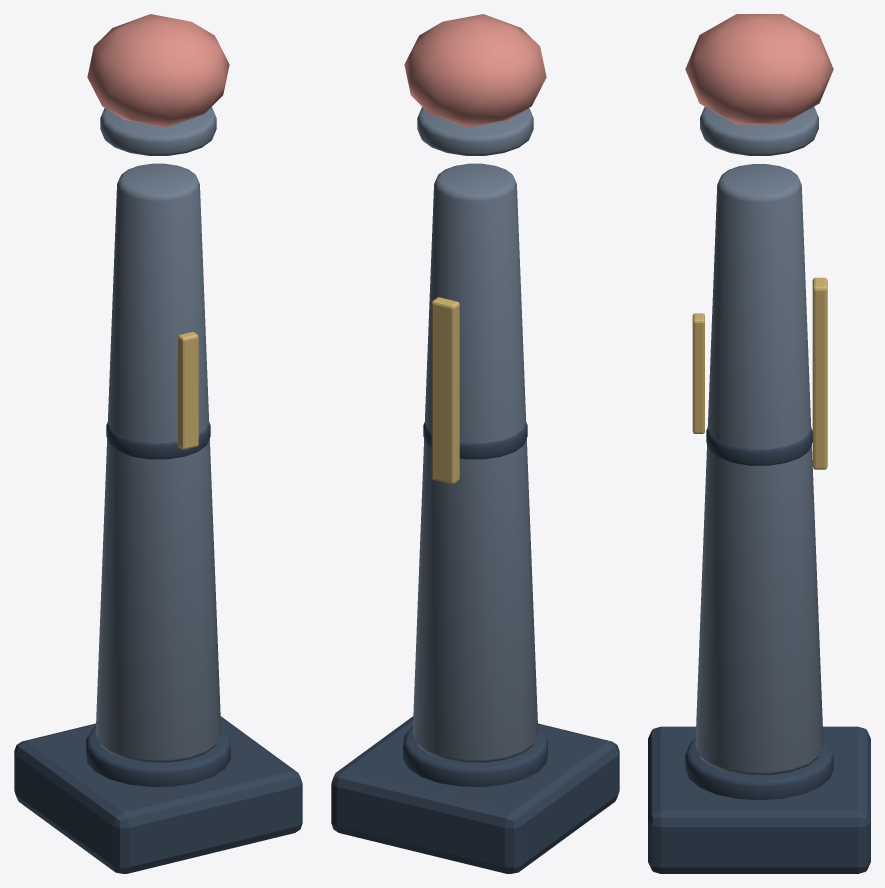
The model's file is PylonAccent_S.fbx.
3 views of the same model, side by side, from view 1: azimuth 30°, elevation 25°; view 2: azimuth 150°, elevation 25°; view 3: azimuth 270°, elevation 25° (orthographic). The views are drawn at different scales.
Visible parts, largest first — view 1: PylonAccent_S; view 2: PylonAccent_S; view 3: PylonAccent_S.
Part boxes in pixels (x1,y1,x2,y2): PylonAccent_S: (14,14,302,873); PylonAccent_S: (331,14,619,873); PylonAccent_S: (648,14,870,873).
Size of the model in its own units: 0.9 by 3.62 by 0.9.
